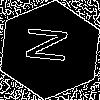N: (25, 25, 79, 66)
